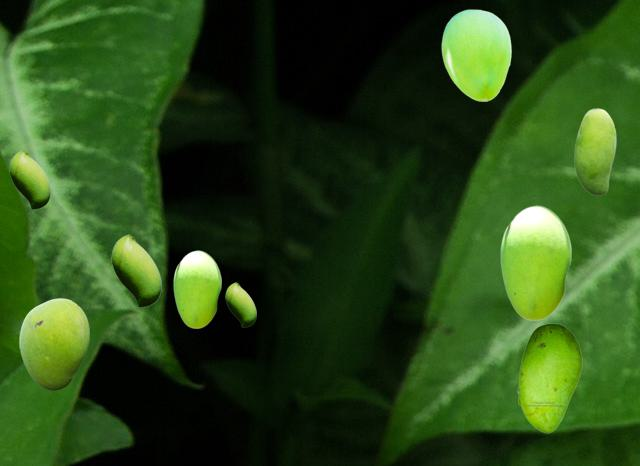green_mango: (500, 205, 570, 319), (517, 323, 581, 432), (19, 298, 88, 389), (441, 9, 510, 100), (173, 250, 220, 327), (111, 234, 160, 306), (574, 108, 615, 194), (9, 150, 49, 208), (225, 282, 255, 326)
